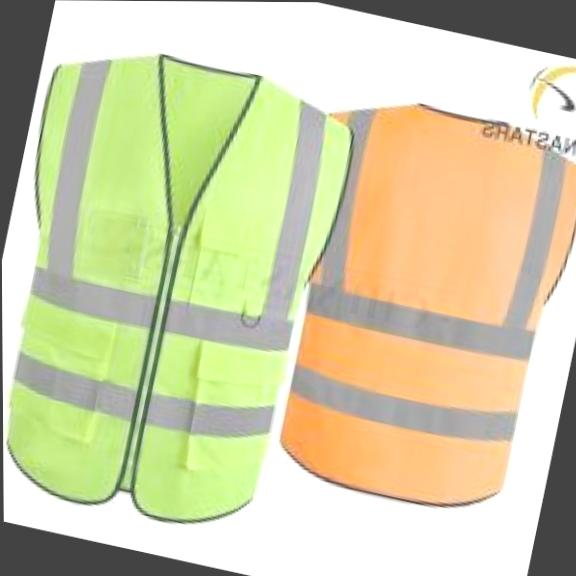safety_vest: (0, 16, 370, 551), (251, 81, 576, 530)
